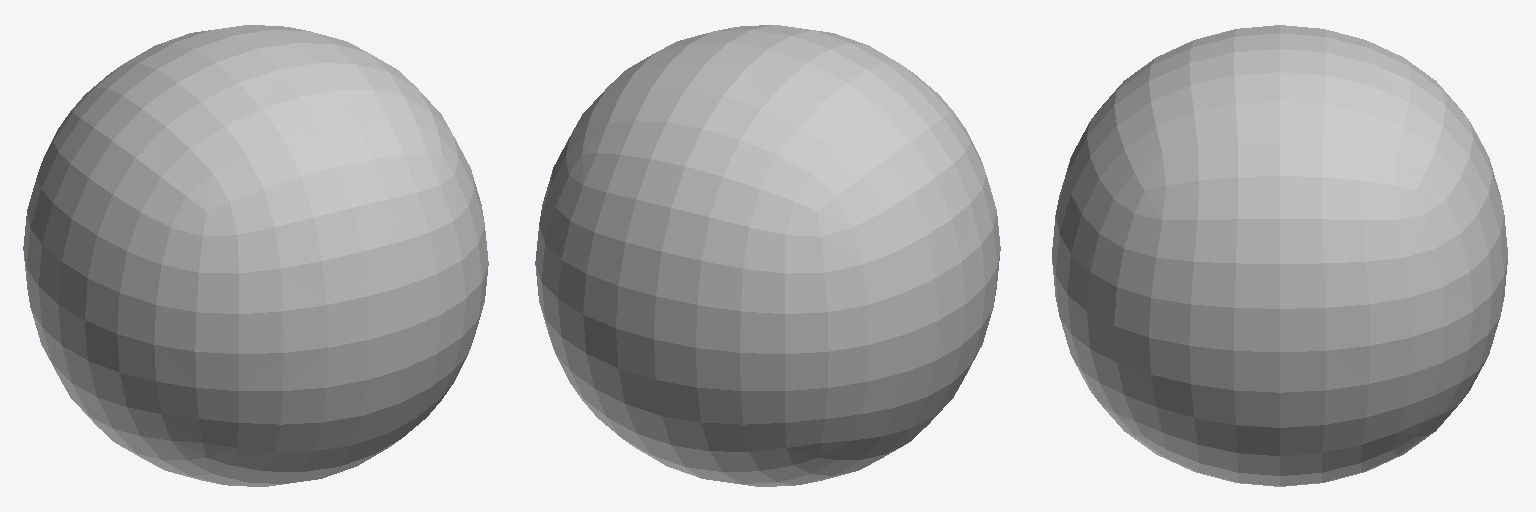
File: eye2.obj
3 renders of one model, left to right at view 1: azimuth 30°, elevation 25°; view 2: azimuth 150°, elevation 25°; view 3: azimuth 270°, elevation 25°, orthographic.
Parts seen in each view (by area): view 1: eye2_Cube.002; view 2: eye2_Cube.002; view 3: eye2_Cube.002.
Boxes of the visible parts, <box> form: eye2_Cube.002: <box>23,25,488,486</box>; eye2_Cube.002: <box>535,25,1000,486</box>; eye2_Cube.002: <box>1052,25,1507,486</box>.
Bounding box in the file's own units: 0.6048 × 0.6048 × 0.6048.